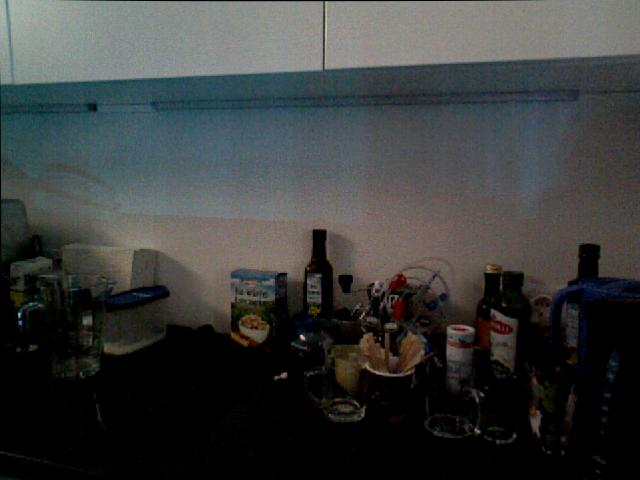bench: (492, 265, 534, 417), (562, 242, 601, 365), (302, 228, 333, 320), (475, 263, 502, 353)
bird: (233, 310, 271, 344)
handbag: (18, 267, 113, 380), (422, 360, 486, 440), (302, 349, 370, 421), (363, 355, 415, 422), (483, 374, 521, 446)
